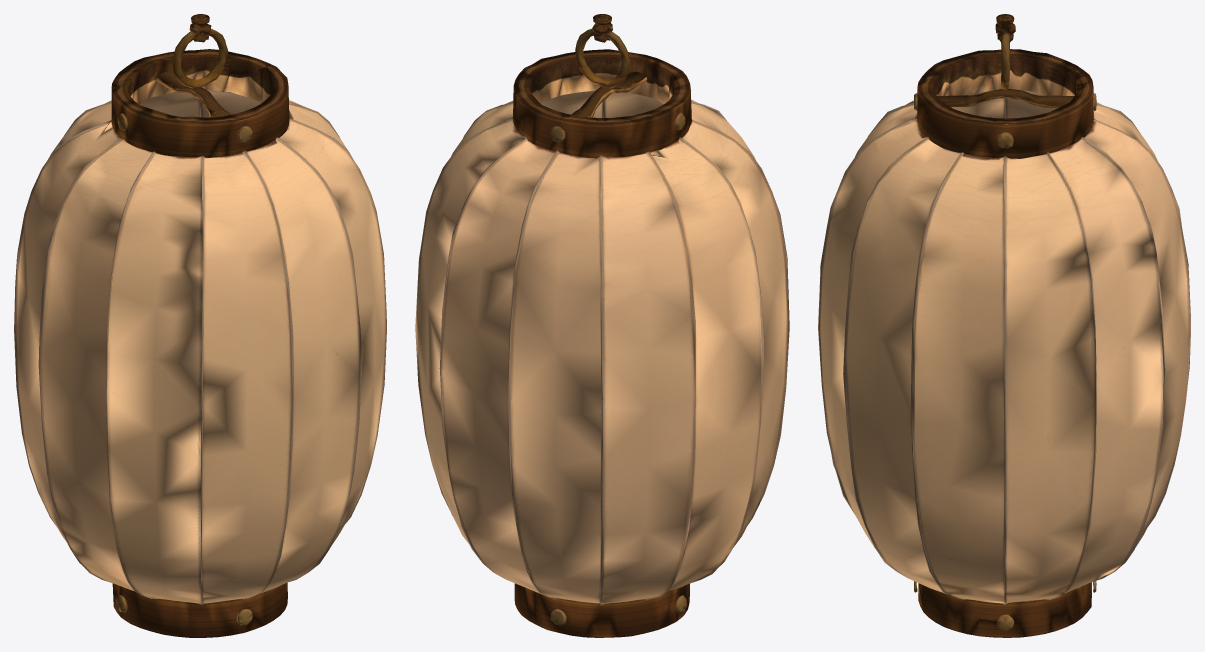
The model's file is paper-lantern.glb.
The picture shows the model from 3 angles, left to right: view 1: azimuth 30°, elevation 25°; view 2: azimuth 150°, elevation 25°; view 3: azimuth 270°, elevation 25°; orthographic projection.
Parts seen in each view (by area): view 1: Mesh_0; view 2: Mesh_0; view 3: Mesh_0.
Part boxes in pixels (<box>): Mesh_0: <box>14,14,386,637</box>; Mesh_0: <box>415,14,789,637</box>; Mesh_0: <box>818,14,1190,637</box>.
Bounding box in the file's own units: 0.232 × 0.4 × 0.232.
Materials: 1 (1 with a texture image).
